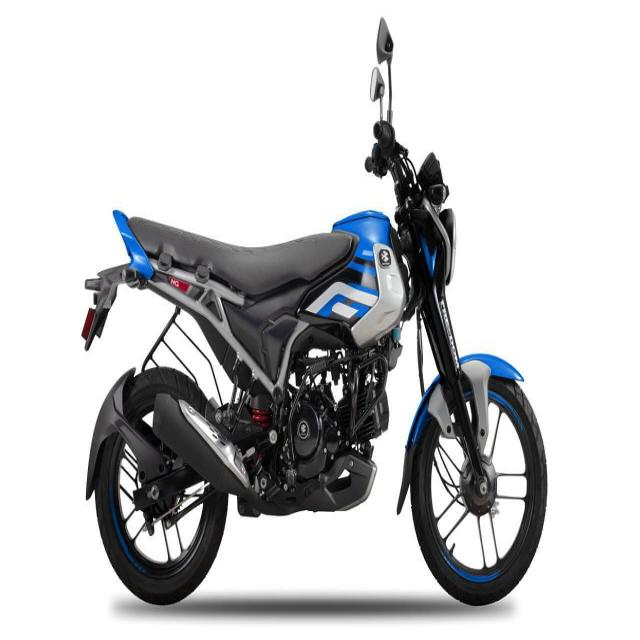Bike: (79, 80, 547, 604)
